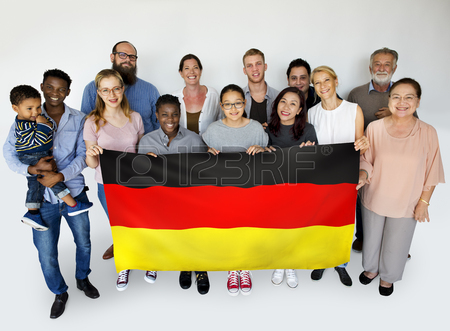person: (348, 85, 433, 188), (136, 93, 219, 178), (83, 63, 142, 155), (32, 57, 87, 152), (198, 85, 259, 166), (255, 93, 308, 150)
